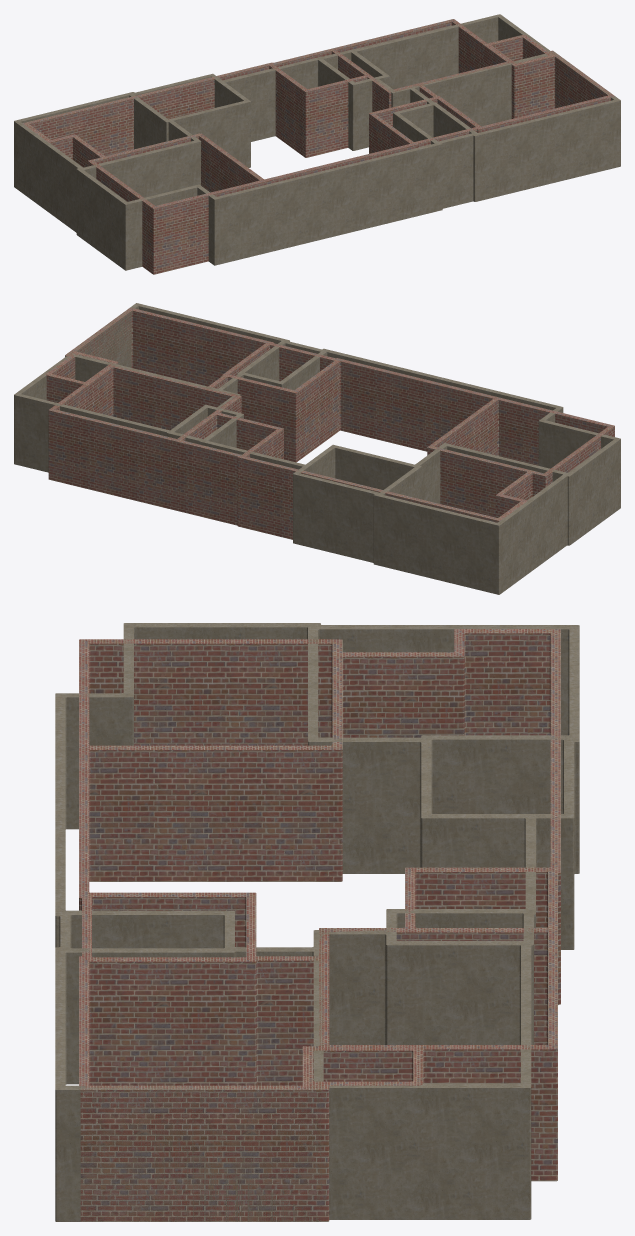
The picture shows the model from 3 angles, top to bottom: view 1: azimuth 30°, elevation 25°; view 2: azimuth 150°, elevation 25°; view 3: azimuth 270°, elevation 25°; orthographic projection. The views are drawn at different scales.
Bounding box in the file's own units: 205 × 27 × 97.33.
2 materials, 2 textured.
